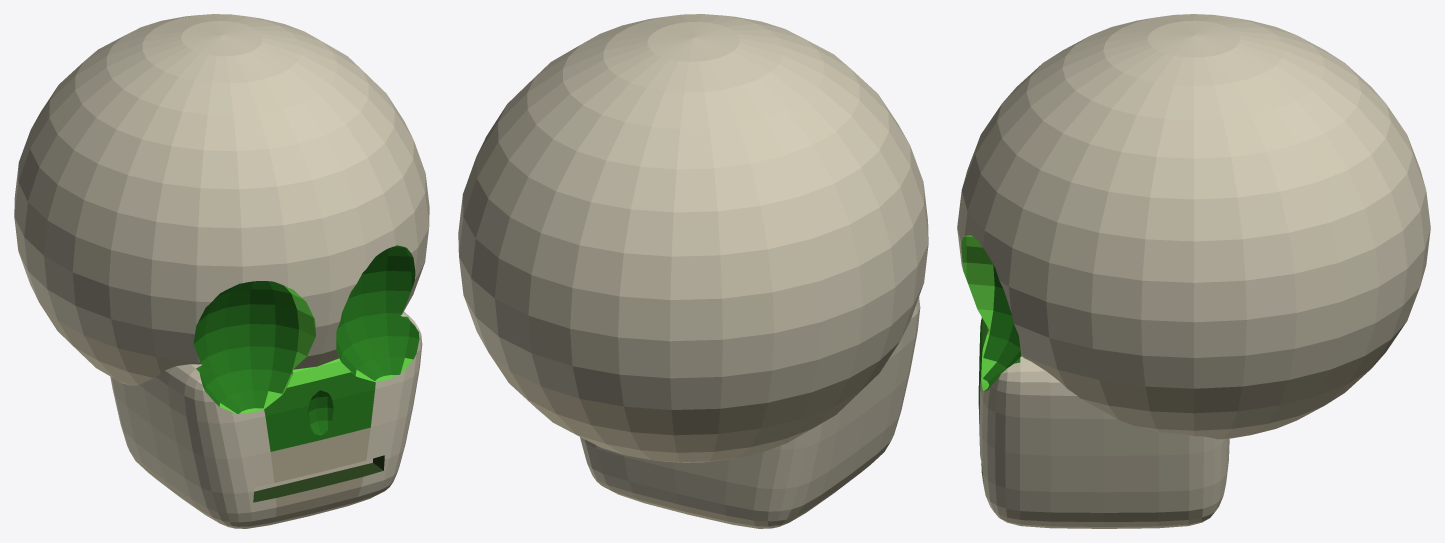
Rendered from skull_rain_skull.glb.
3 views of the same model, side by side, from view 1: azimuth 30°, elevation 25°; view 2: azimuth 150°, elevation 25°; view 3: azimuth 270°, elevation 25° (orthographic). The views are drawn at different scales.
Visible parts, largest first — view 1: SkullRainSkull; view 2: SkullRainSkull; view 3: SkullRainSkull.
Part boxes in pixels (x1=…): SkullRainSkull: x1=14, y1=14, x2=429, y2=528; SkullRainSkull: x1=458, y1=14, x2=928, y2=528; SkullRainSkull: x1=957, y1=14, x2=1430, y2=528.
Size of the model in its own units: 0.6 by 0.673 by 0.636.
